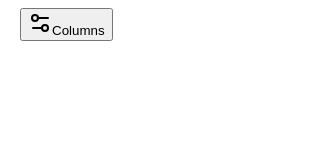
Scenario: DataTableViewOptions › Rendering › opens column toggle menu on click
Click the button "Columns". click: (66, 24)
box: [20,8,113,41]
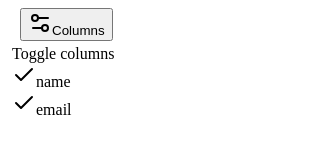
Expected: the text "Toggle columns" is shown, [12,45,114,63]
